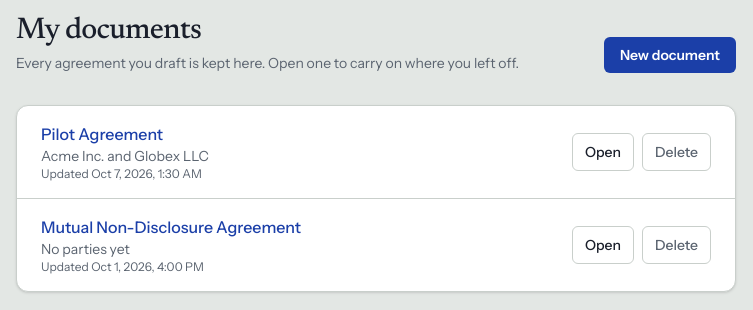
it: DocumentList › deletes a document only once the user has confirmed it
Step 1. Click the button with aria-label "Delete Pilot Agreement - Acme Inc. and Globex LLC" → (676, 152), box [642,133,711,171]
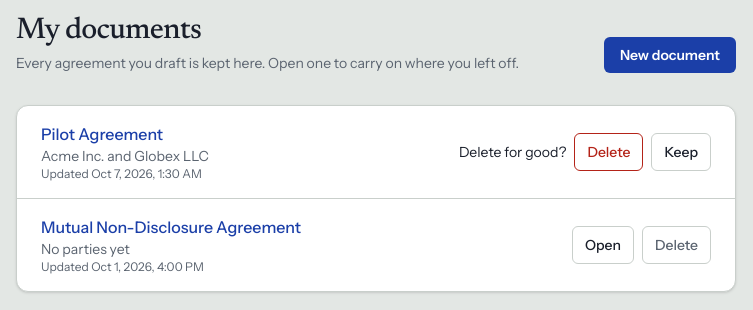
Expected: the list item that starts with "Pilot Agreement" shows "Delete for good?", [459,143,566,161]
Step 2. Click the button "Delete" next to "Delete for good?" → (609, 152), box [574,133,643,171]
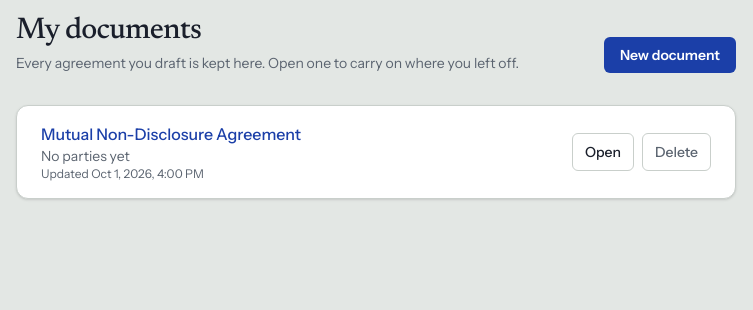
Expected: the list item shows "Mutual Non-Disclosure Agreement", [41,122,556,146]
Expected: the number of list items is 1, [17,106,735,198]
